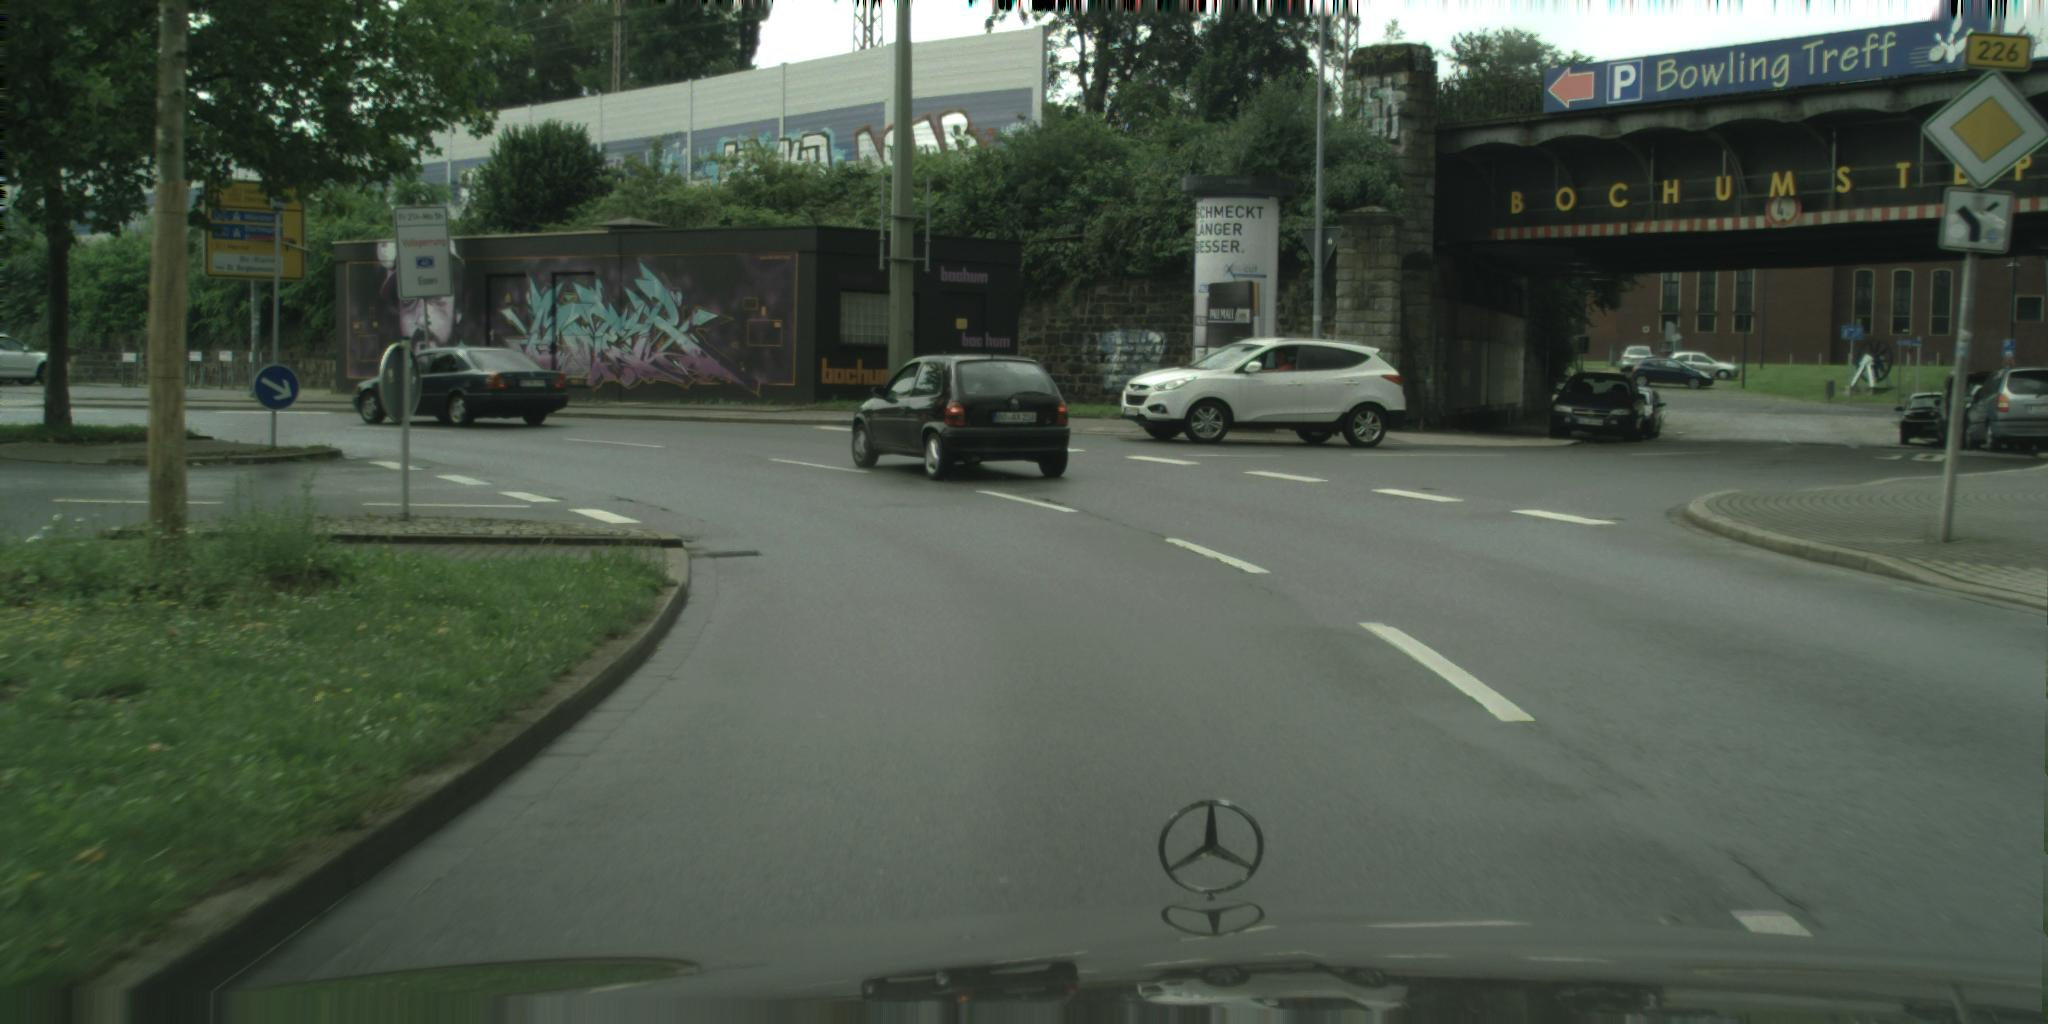car: (1121, 337, 1408, 451), (852, 350, 1072, 483), (353, 346, 571, 428), (1958, 364, 2048, 455), (1546, 371, 1650, 443), (1933, 370, 1998, 451), (1893, 391, 1951, 447), (1, 332, 55, 388), (1627, 358, 1716, 391), (1629, 379, 1668, 441), (1667, 350, 1740, 381), (1620, 345, 1657, 374)
